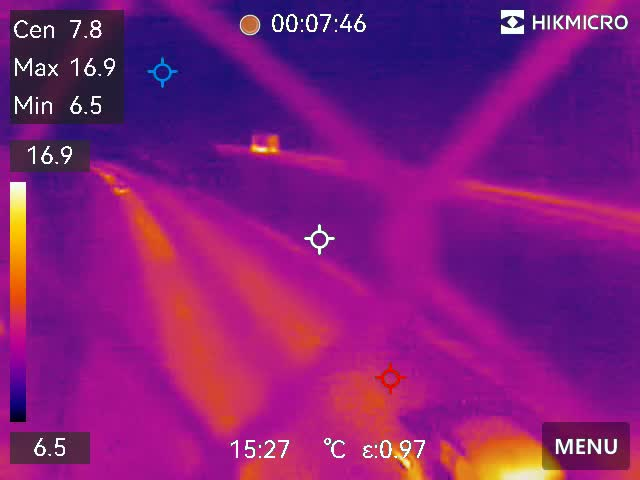heavyTruck: (245, 130, 283, 158)
